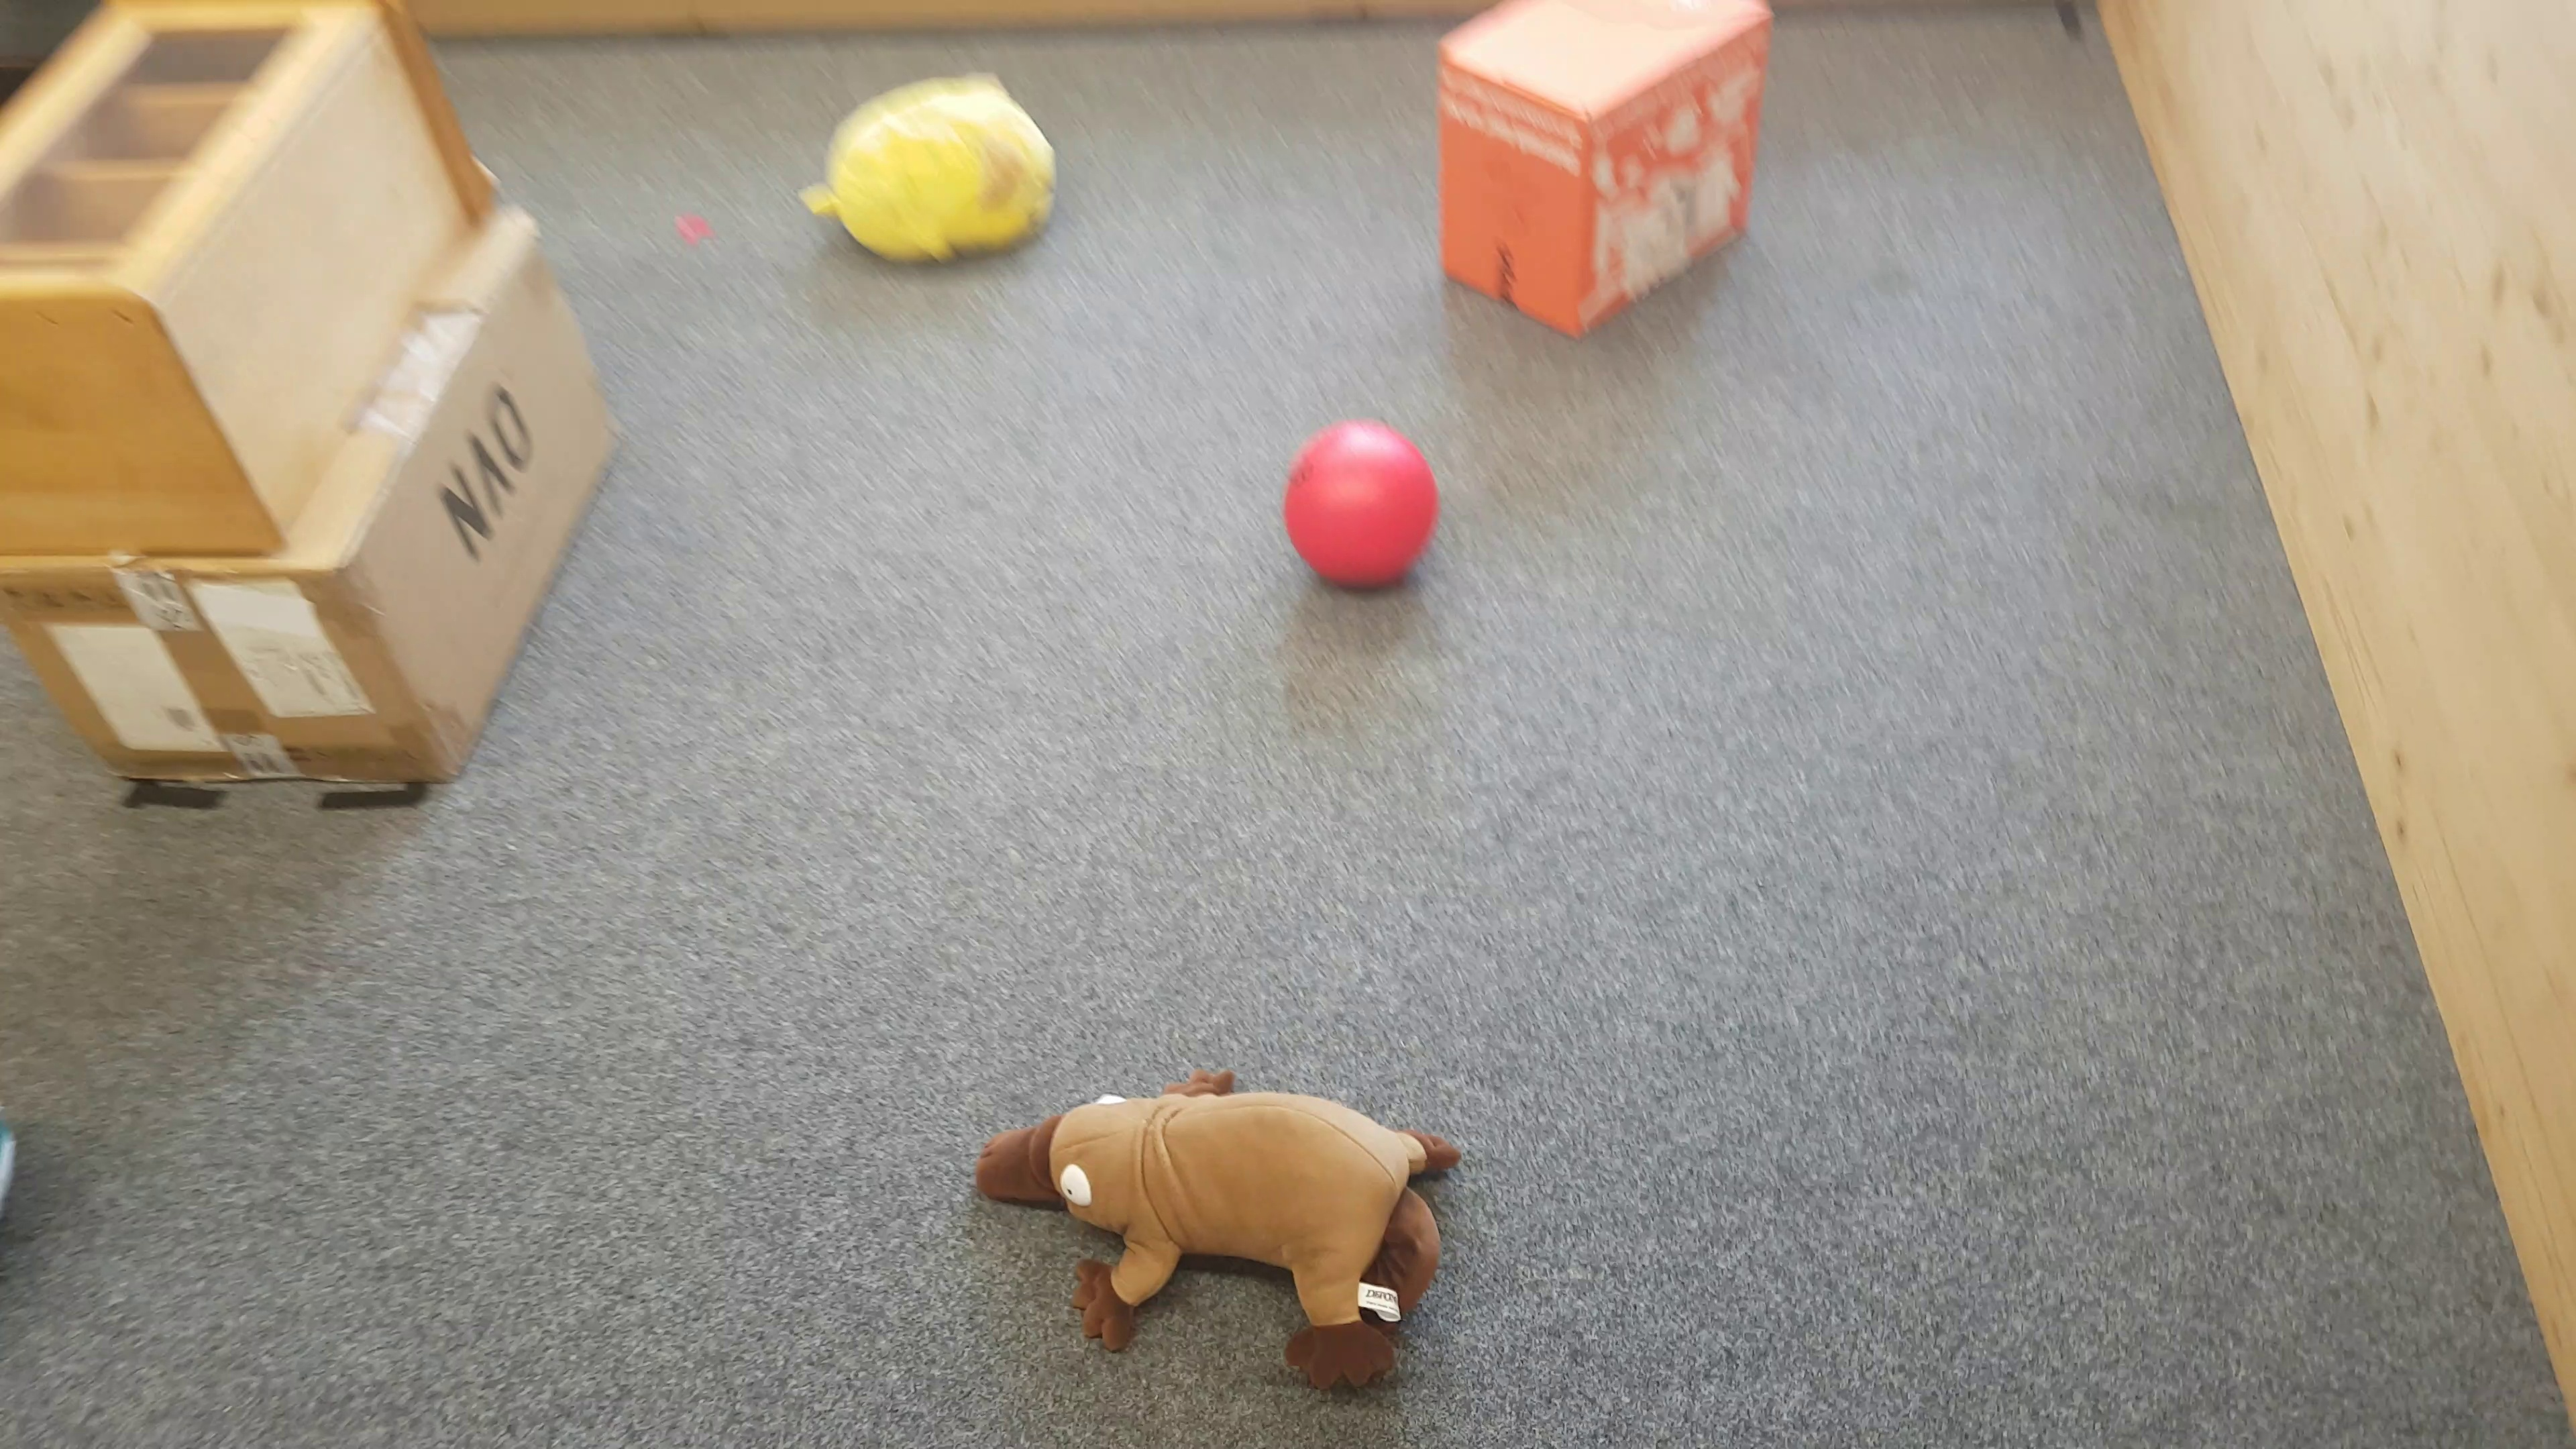grasp: (982, 1067, 1463, 1384), (812, 71, 1056, 262)
kick: (1288, 419, 1440, 593)
push: (1442, 0, 1773, 338)
